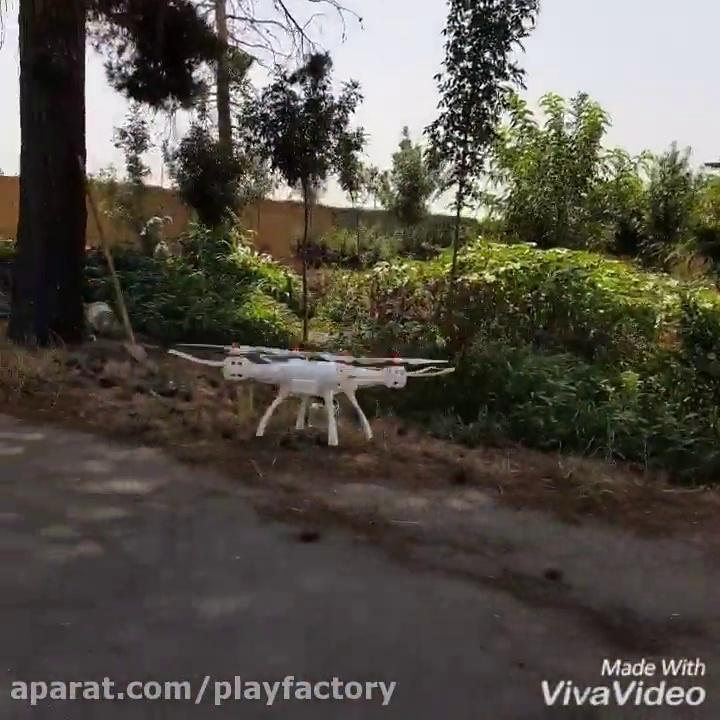drone: (167, 339, 458, 446)
